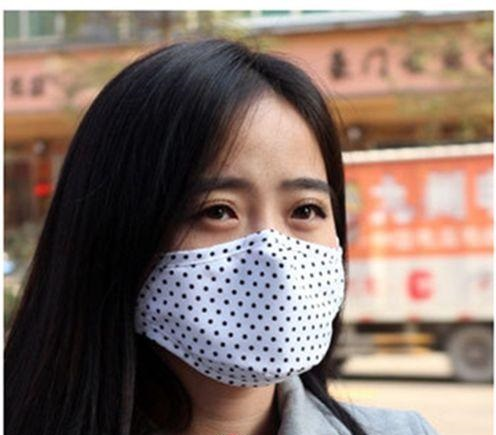face_mask: (139, 113, 341, 378)
